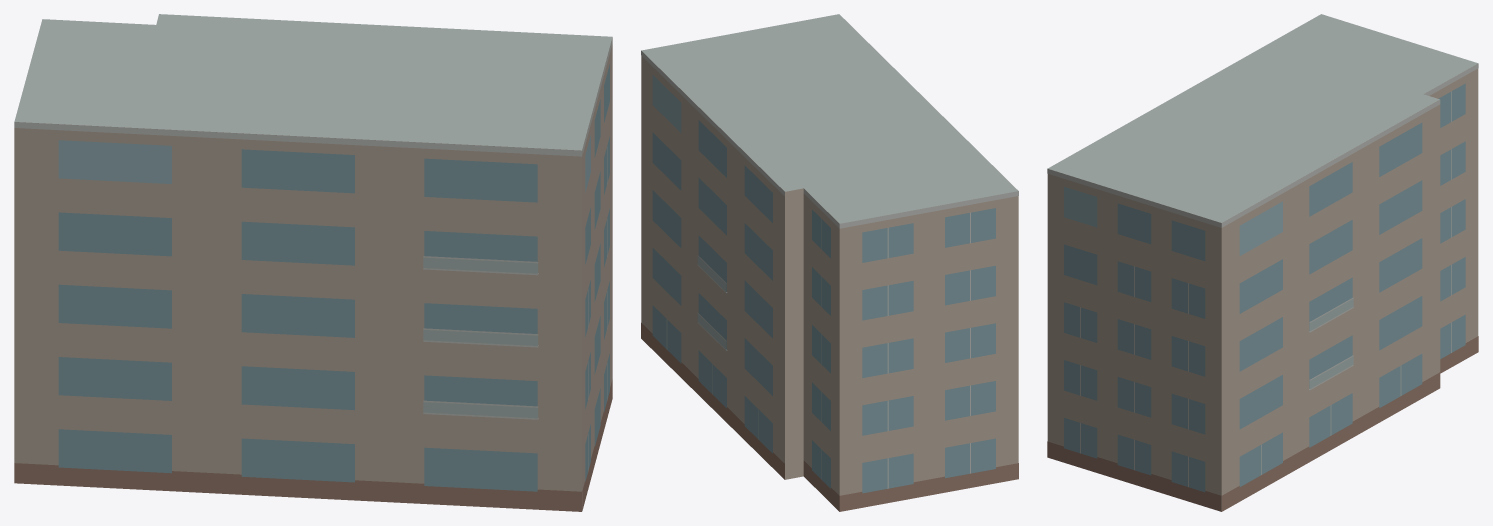
File: survey-upis-32704819.glb
The picture shows the model from 3 angles, left to right: view 1: azimuth 30°, elevation 25°; view 2: azimuth 150°, elevation 25°; view 3: azimuth 270°, elevation 25°; orthographic projection. The views are drawn at different scales.
Parts seen in each view (by area): view 1: survey-upis-32704819.tmp; view 2: survey-upis-32704819.tmp; view 3: survey-upis-32704819.tmp.
Boxes of the visible parts, left/top/right/bottom form: survey-upis-32704819.tmp: left=14, top=14, right=612, bottom=511; survey-upis-32704819.tmp: left=641, top=14, right=1018, bottom=511; survey-upis-32704819.tmp: left=1047, top=14, right=1478, bottom=511.
Bounding box in the file's own units: 22.52 × 14.5 × 19.62.
